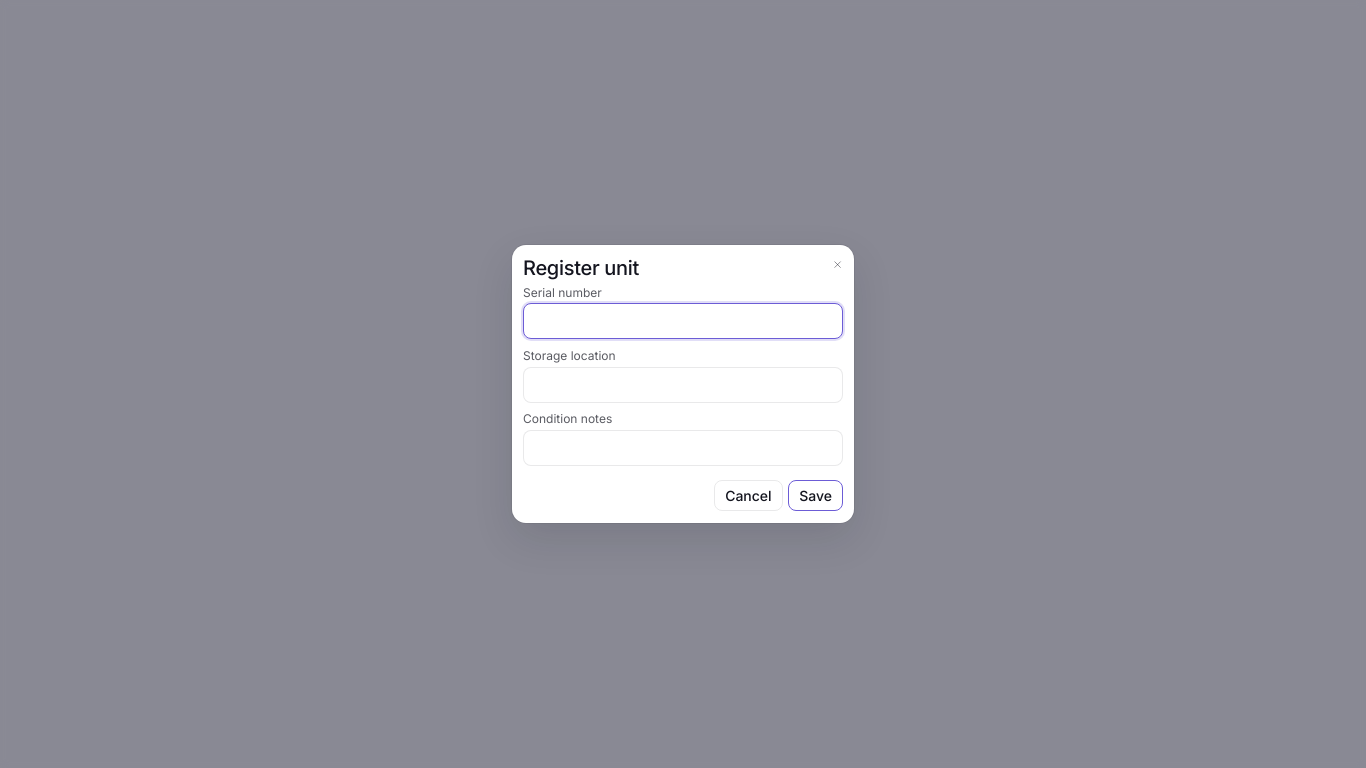
Test: RegisterUnitDialog › offers to print a label after a successful save, without auto-closing
In the field labelled "Serial number": (683, 322) left=523, top=304, right=843, bottom=340, type "JBL6-NEW01"
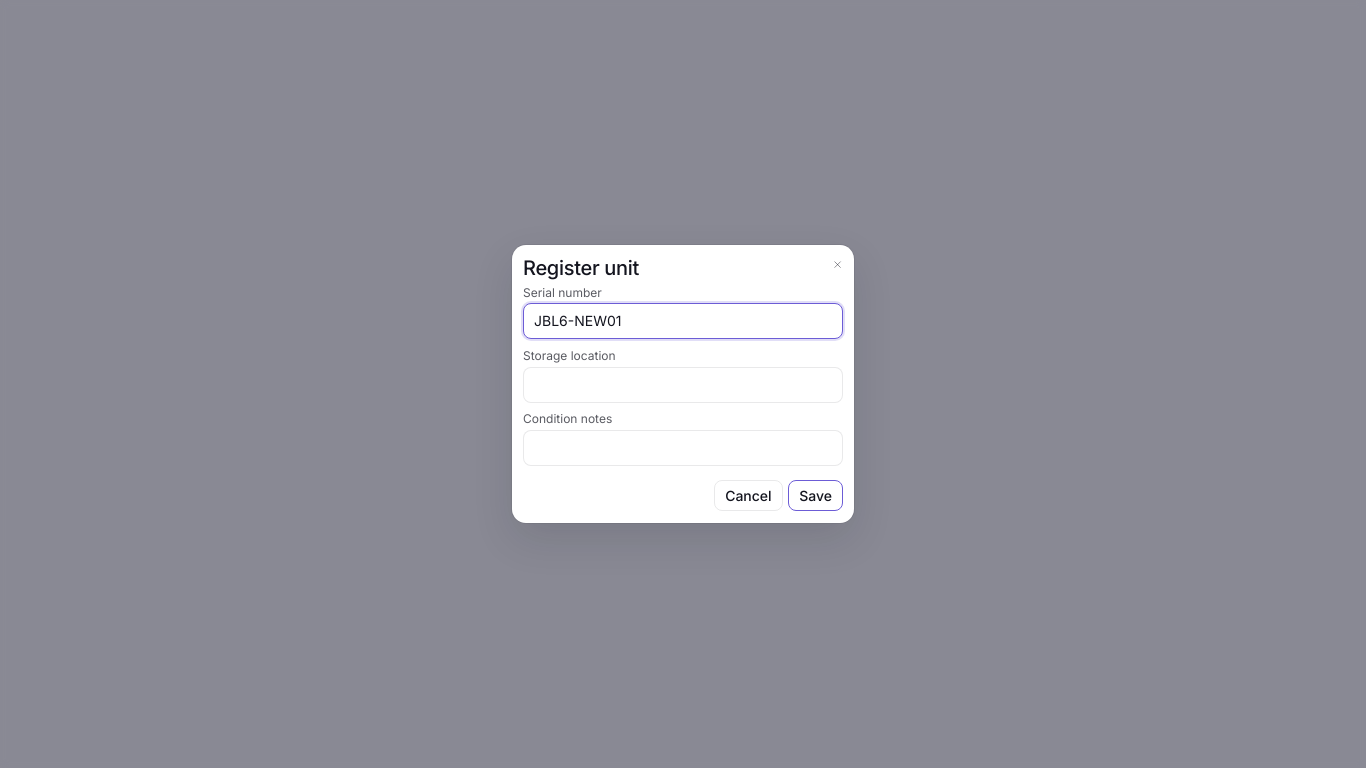
Click the button "Save": (816, 496) left=788, top=480, right=843, bottom=511
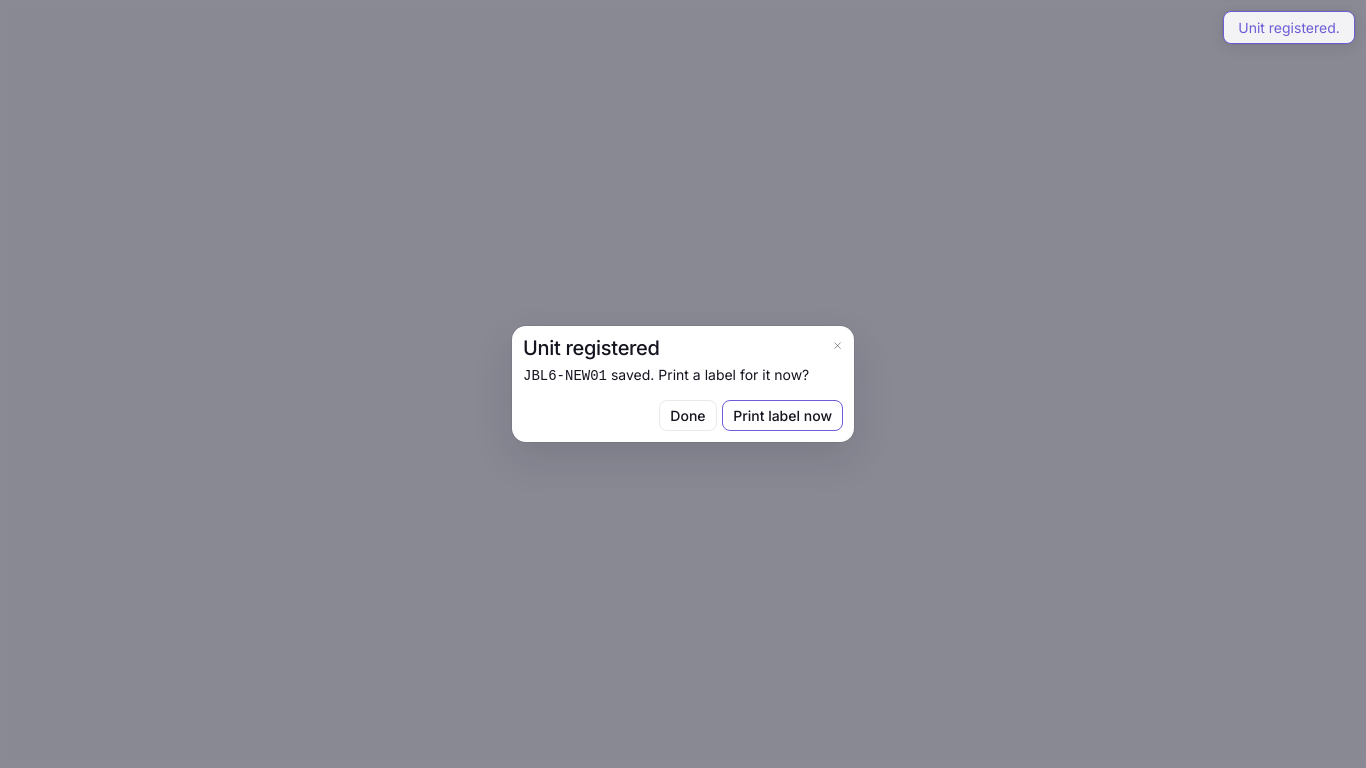
Check: the text "JBL6-NEW01" is shown, box left=523, top=368, right=607, bottom=384
Check: the button "Print label now" is shown, box left=722, top=400, right=843, bottom=431
